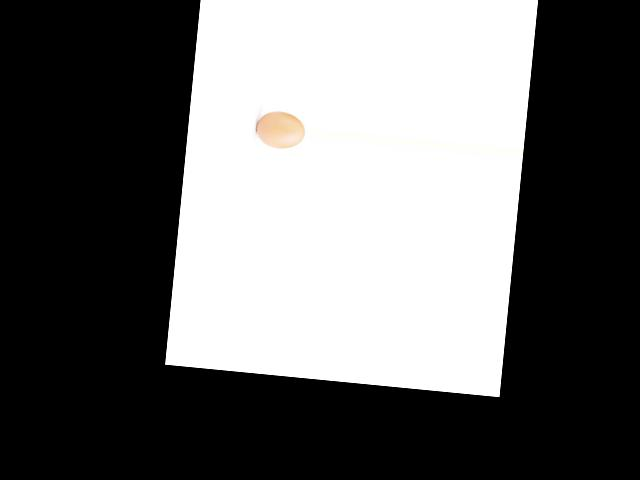egg: (254, 109, 306, 149)
